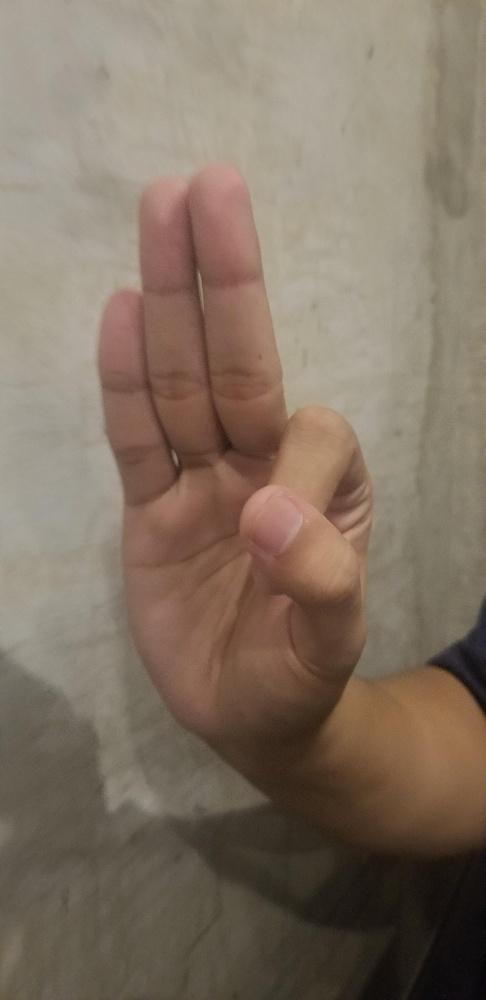f: (95, 156, 375, 732)
